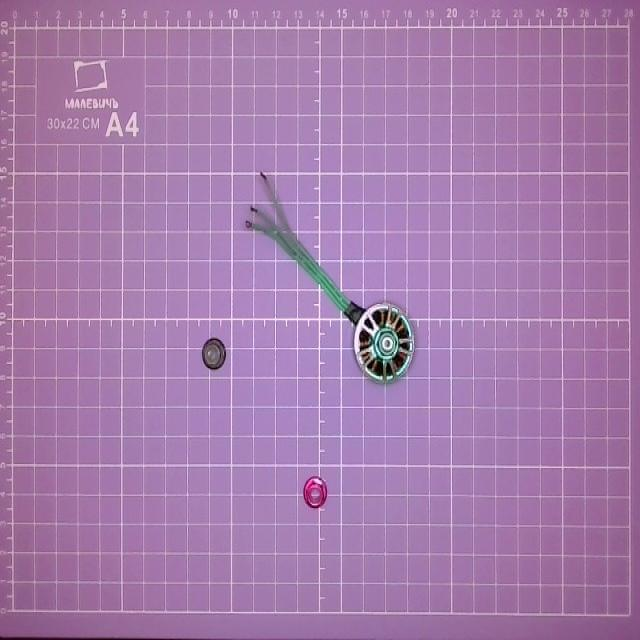motor: (240, 171, 417, 384)
screw_M5: (300, 471, 336, 518), (195, 334, 231, 376)
